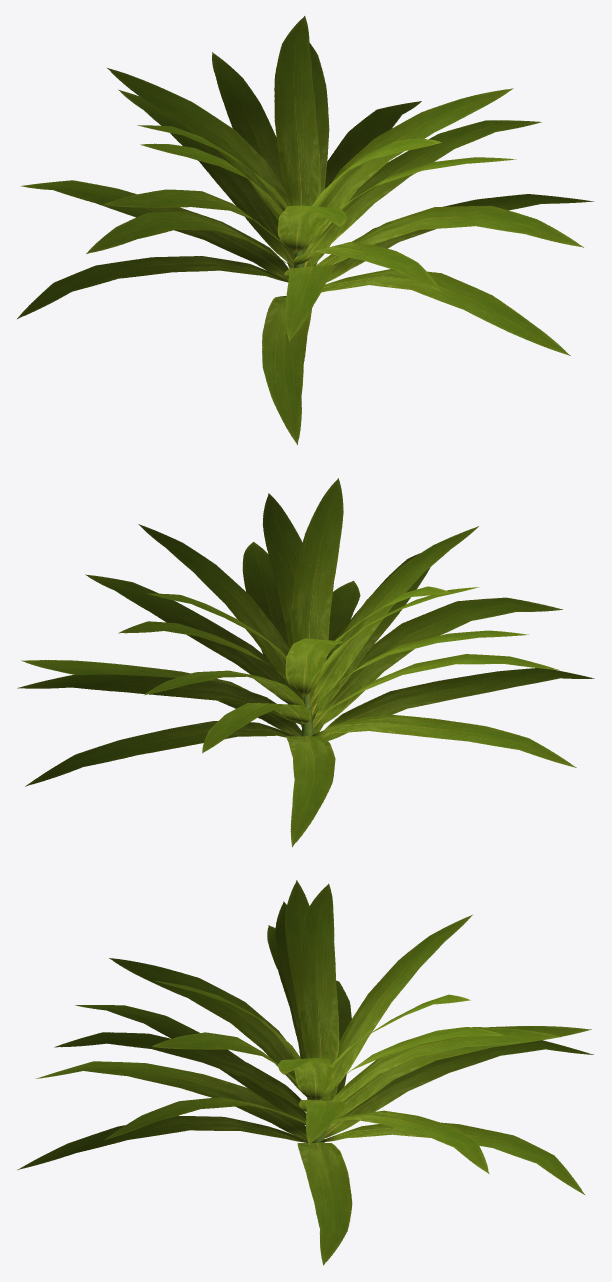
File: Stage_Lounge_Kelp_02.fbx
3 renders of one model, top to bottom at view 1: azimuth 30°, elevation 25°; view 2: azimuth 150°, elevation 25°; view 3: azimuth 270°, elevation 25°, orthographic. The views are drawn at different scales.
Parts seen in each view (by area): view 1: leaf palm_1; view 2: leaf palm_1; view 3: leaf palm_1.
Boxes of the visible parts, left/top/right/bottom form: leaf palm_1: left=17, top=16, right=594, bottom=444; leaf palm_1: left=17, top=478, right=594, bottom=847; leaf palm_1: left=17, top=880, right=593, bottom=1265.
Bounding box in the file's own units: 197 × 66.79 × 181.
